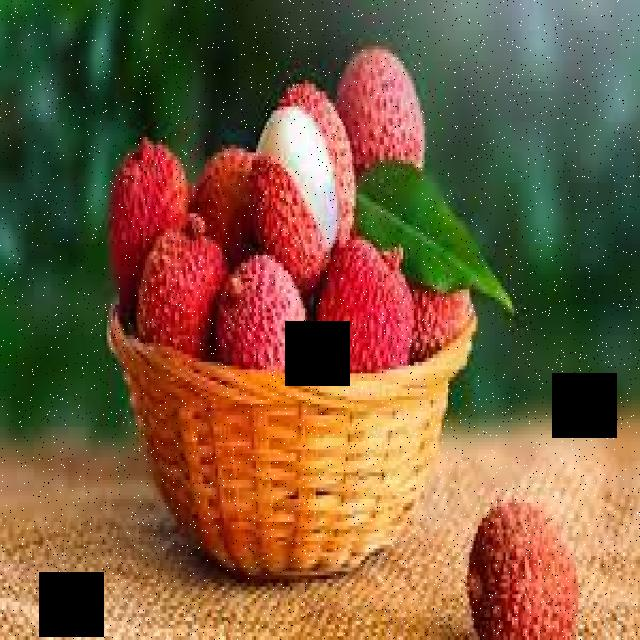lychee: (134, 76, 360, 372)
